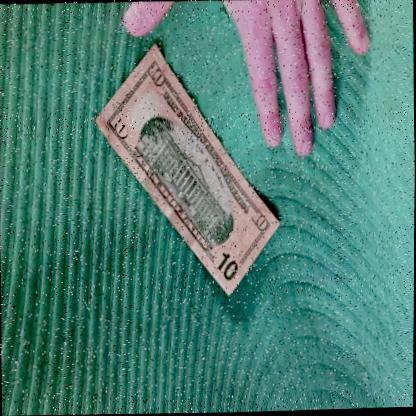ten-back: (93, 43, 279, 296)
